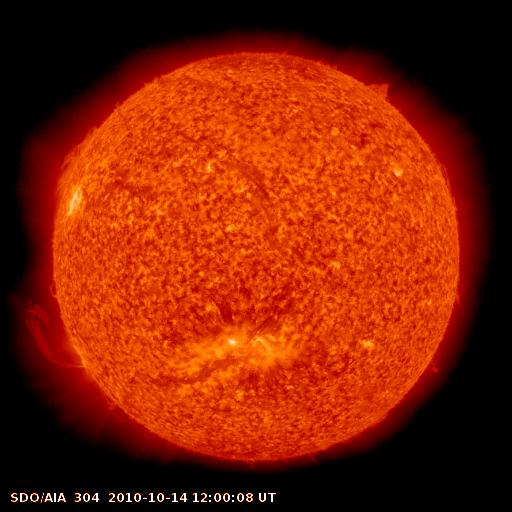prominence: (6, 290, 96, 385), (47, 118, 108, 192), (361, 64, 410, 122), (426, 148, 459, 198), (418, 350, 451, 384)
